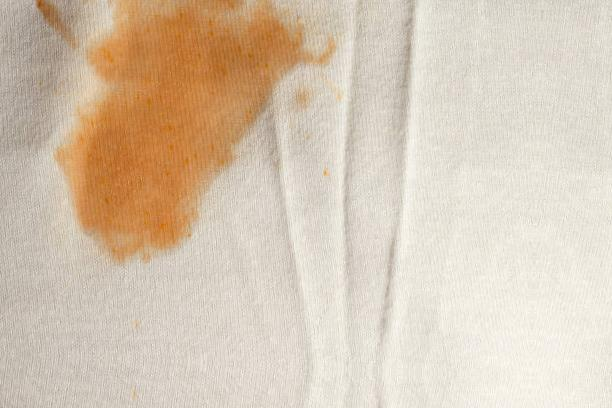stain: (51, 1, 339, 278), (27, 1, 81, 54)
